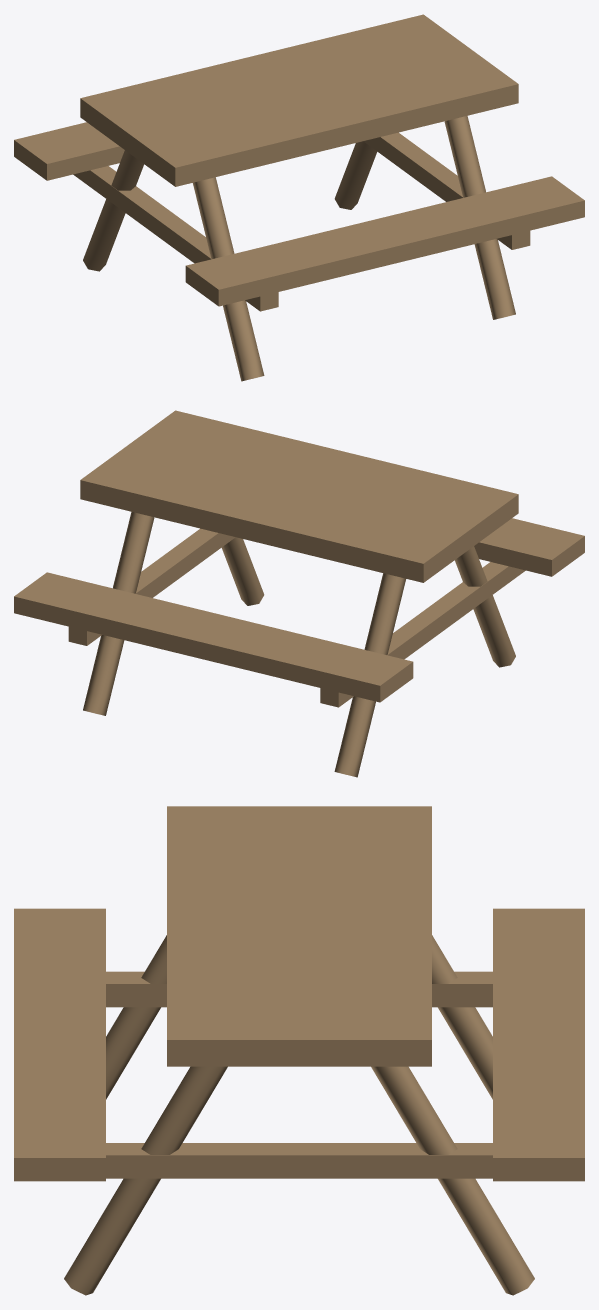
Rendered from zoo-and-safari-park-builder-picnic-table-2af89adf__21501.glb.
The picture shows the model from 3 angles, top to bottom: view 1: azimuth 30°, elevation 25°; view 2: azimuth 150°, elevation 25°; view 3: azimuth 270°, elevation 25°; orthographic projection. The views are drawn at different scales.
Parts seen in each view (by area): view 1: picnic-table; view 2: picnic-table; view 3: picnic-table.
Boxes of the visible parts, bbox=[...] form: picnic-table: bbox=[14, 14, 584, 381]; picnic-table: bbox=[14, 410, 584, 777]; picnic-table: bbox=[14, 806, 584, 1295].
Bounding box in the file's own units: 1.6 × 0.8515 × 1.55.
